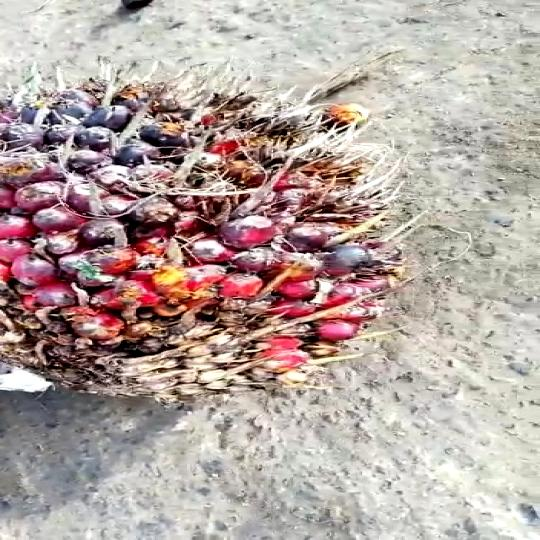masak: (0, 58, 453, 417)
